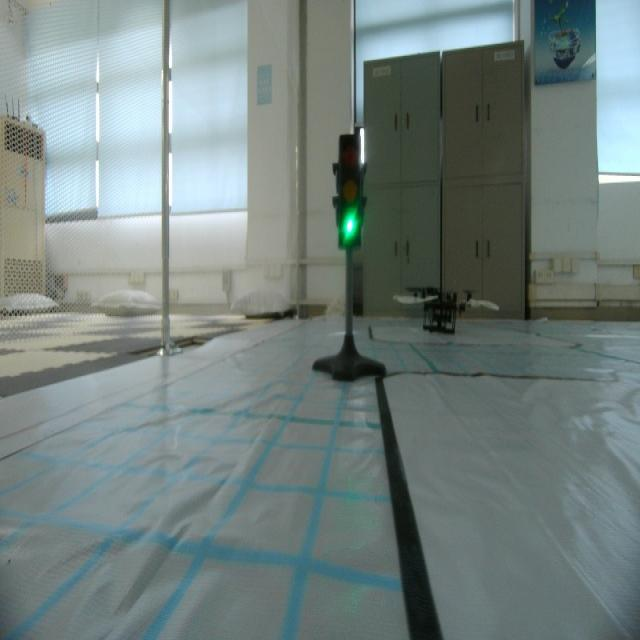green: (333, 130, 369, 256)
